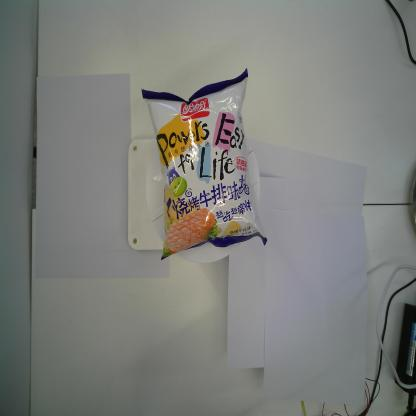Puffed Food: (140, 66, 269, 262)
